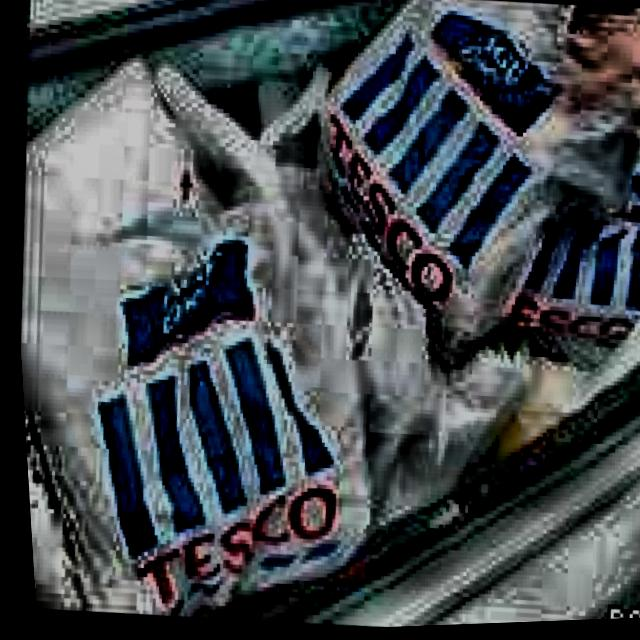Plastic: (3, 49, 421, 628), (295, 0, 640, 406)
